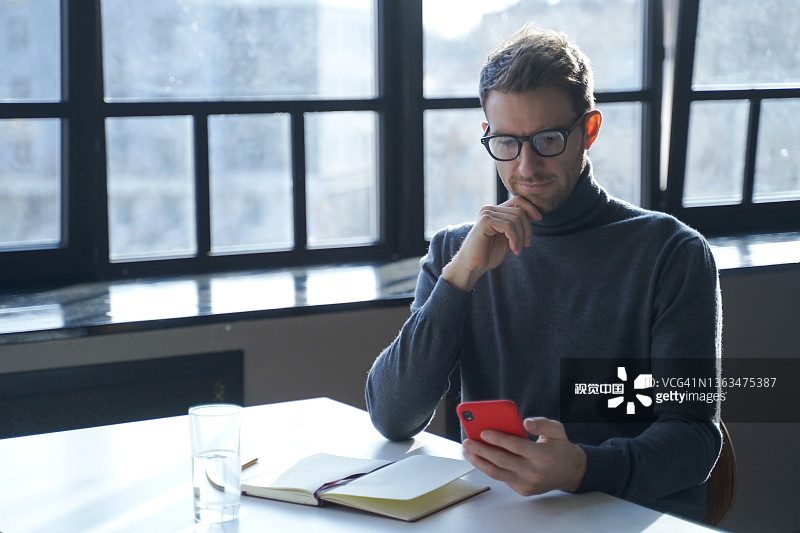no-phone: (440, 190, 552, 285)
reading: (444, 392, 607, 512)
